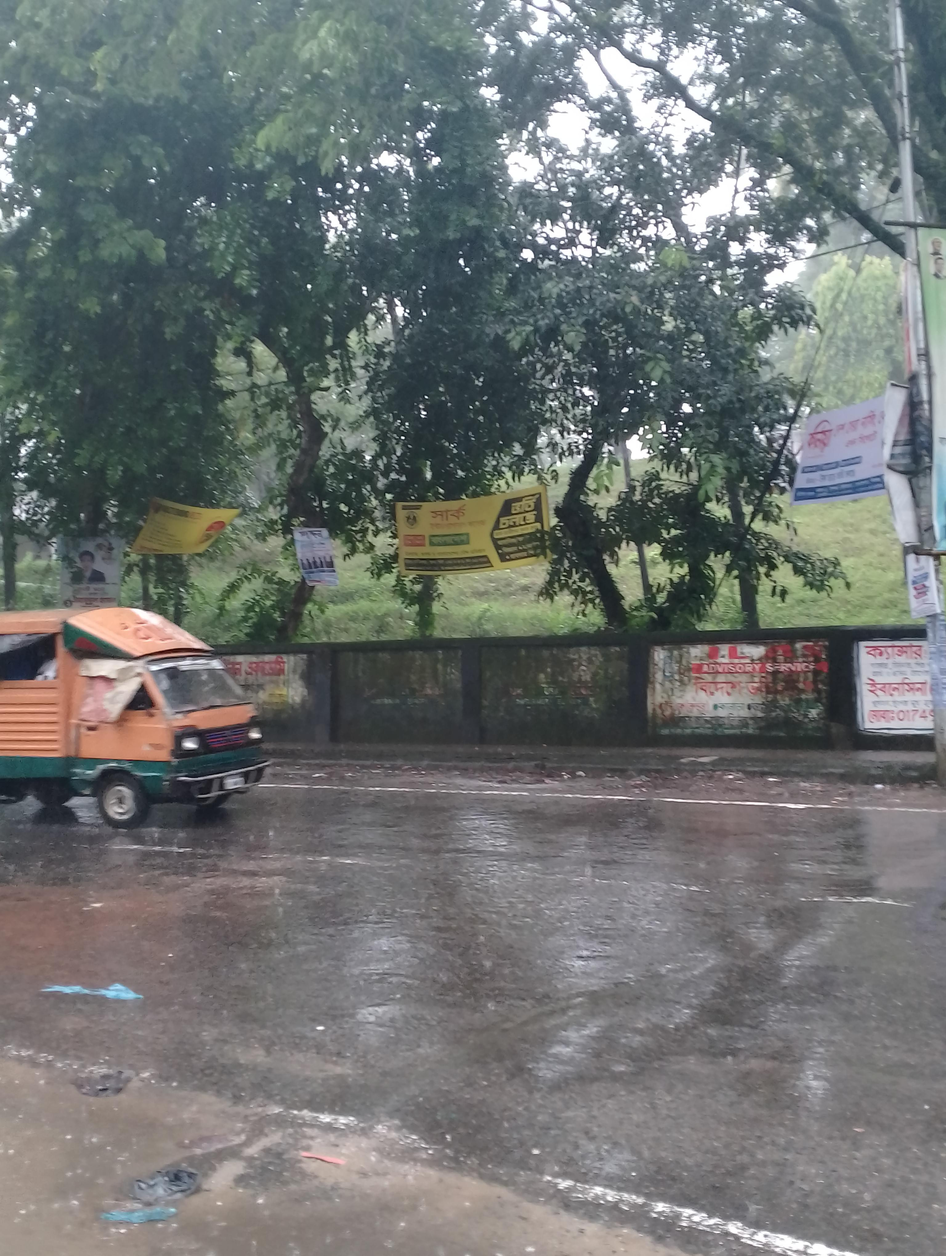Car: (0, 582, 292, 842)
